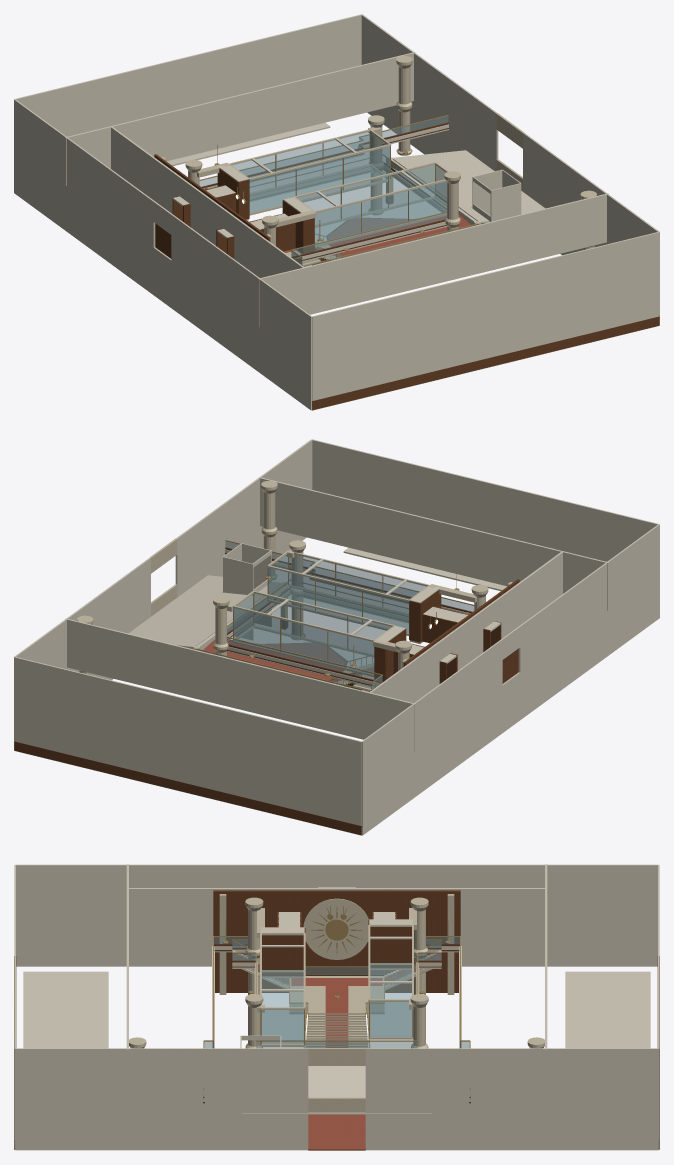
The model's file is AST-ARR-002.glb.
3 views of the same model, one above another, from view 1: azimuth 30°, elevation 25°; view 2: azimuth 150°, elevation 25°; view 3: azimuth 270°, elevation 25° (orthographic). The views are drawn at different scales.
Parts seen in each view (by area): view 1: ARR_OuterEnd_-398.15, ARR_OuterEnd_-465.85, ARR_OpaqueServiceScreen_1, ARR_WestLowerOpaque, ARR_OpaqueServiceScreen_0, ARR_EastEnclosure_-465.85, ARR_WestServiceEnclosure_-430, ARR_WestServiceEnclosure_-465.85, ARR_EastEnclosure_-429, ARR_ExhibitGlassSide_0.002, ARR_ExhibitGlassSide_1.002, ARR_ExhibitGlassSide_0 (+23 smaller); view 2: ARR_OuterEnd_-465.85, ARR_OuterEnd_-398.15, ARR_OpaqueServiceScreen_0, ARR_WestLowerOpaque, ARR_OpaqueServiceScreen_1, ARR_EastEnclosure_-429, ARR_WestServiceEnclosure_-465.85, ARR_WestServiceEnclosure_-430, ARR_EastEnclosure_-465.85, ARR_ExhibitGlassSide_0, ARR_ExhibitGlassSide_1, ARR_ExhibitGlassSide_0.002 (+23 smaller); view 3: ARR_EastEnclosure_-465.85, ARR_EastEnclosure_-429, ARR_WestLowerOpaque, ARR_WestServiceEnclosure_-465.85, ARR_WestServiceEnclosure_-430, ARR_HospitalityCanopy_1_0, ARR_HospitalityCanopy_2_0, ARR_OpaqueServiceScreen_2_solid_-438.2, ARR_OpaqueServiceScreen_2_end, ARR_StairFocalWall_end, ARR_StairFocalWall_solid_-438.2, ARR_ExhibitGlassBelly_0 (+29 smaller).
Part boxes in pixels (x1=…): ARR_OuterEnd_-398.15: x1=312, y1=232, x2=659, y2=410; ARR_OuterEnd_-465.85: x1=14, y1=14, x2=361, y2=136; ARR_OpaqueServiceScreen_1: x1=258, y1=193, x2=608, y2=327; ARR_WestLowerOpaque: x1=14, y1=145, x2=311, y2=410; ARR_OpaqueServiceScreen_0: x1=65, y1=52, x2=415, y2=185; ARR_EastEnclosure_-465.85: x1=361, y1=14, x2=498, y2=171; ARR_WestServiceEnclosure_-430: x1=171, y1=214, x2=311, y2=362; ARR_WestServiceEnclosure_-465.85: x1=14, y1=99, x2=155, y2=247; ARR_EastEnclosure_-429: x1=523, y1=133, x2=659, y2=324; ARR_ExhibitGlassSide_0.002: x1=249, y1=146, x2=389, y2=212; ARR_ExhibitGlassSide_1.002: x1=315, y1=182, x2=446, y2=243; ARR_ExhibitGlassSide_0: x1=232, y1=132, x2=369, y2=192; ARR_OuterEnd_-465.85: x1=14, y1=657, x2=361, y2=835; ARR_OuterEnd_-398.15: x1=312, y1=439, x2=659, y2=561; ARR_OpaqueServiceScreen_0: x1=65, y1=618, x2=415, y2=752; ARR_WestLowerOpaque: x1=362, y1=570, x2=659, y2=835; ARR_OpaqueServiceScreen_1: x1=258, y1=477, x2=608, y2=610; ARR_EastEnclosure_-429: x1=175, y1=439, x2=312, y2=597; ARR_WestServiceEnclosure_-465.85: x1=362, y1=639, x2=502, y2=787; ARR_WestServiceEnclosure_-430: x1=518, y1=524, x2=659, y2=672; ARR_EastEnclosure_-465.85: x1=14, y1=558, x2=150, y2=749; ARR_ExhibitGlassSide_0: x1=234, y1=608, x2=374, y2=674; ARR_ExhibitGlassSide_1: x1=268, y1=568, x2=408, y2=633; ARR_ExhibitGlassSide_0.002: x1=254, y1=593, x2=391, y2=654; ARR_EastEnclosure_-465.85: x1=365, y1=1048, x2=658, y2=1150; ARR_EastEnclosure_-429: x1=15, y1=1048, x2=308, y2=1150; ARR_WestLowerOpaque: x1=16, y1=915, x2=657, y2=966; ARR_WestServiceEnclosure_-465.85: x1=356, y1=864, x2=658, y2=914; ARR_WestServiceEnclosure_-430: x1=15, y1=864, x2=317, y2=914; ARR_HospitalityCanopy_1_0: x1=565, y1=971, x2=650, y2=1048; ARR_HospitalityCanopy_2_0: x1=23, y1=971, x2=108, y2=1048; ARR_OpaqueServiceScreen_2_solid_-438.2: x1=396, y1=888, x2=544, y2=940; ARR_OpaqueServiceScreen_2_end: x1=129, y1=888, x2=277, y2=940; ARR_StairFocalWall_end: x1=213, y1=890, x2=277, y2=992; ARR_StairFocalWall_solid_-438.2: x1=396, y1=890, x2=460, y2=992; ARR_ExhibitGlassBelly_0: x1=370, y1=963, x2=411, y2=1036.
Bounding box in the file's own units: 46 × 12 × 67.95.
Materials: 7 (5 with a texture image).
